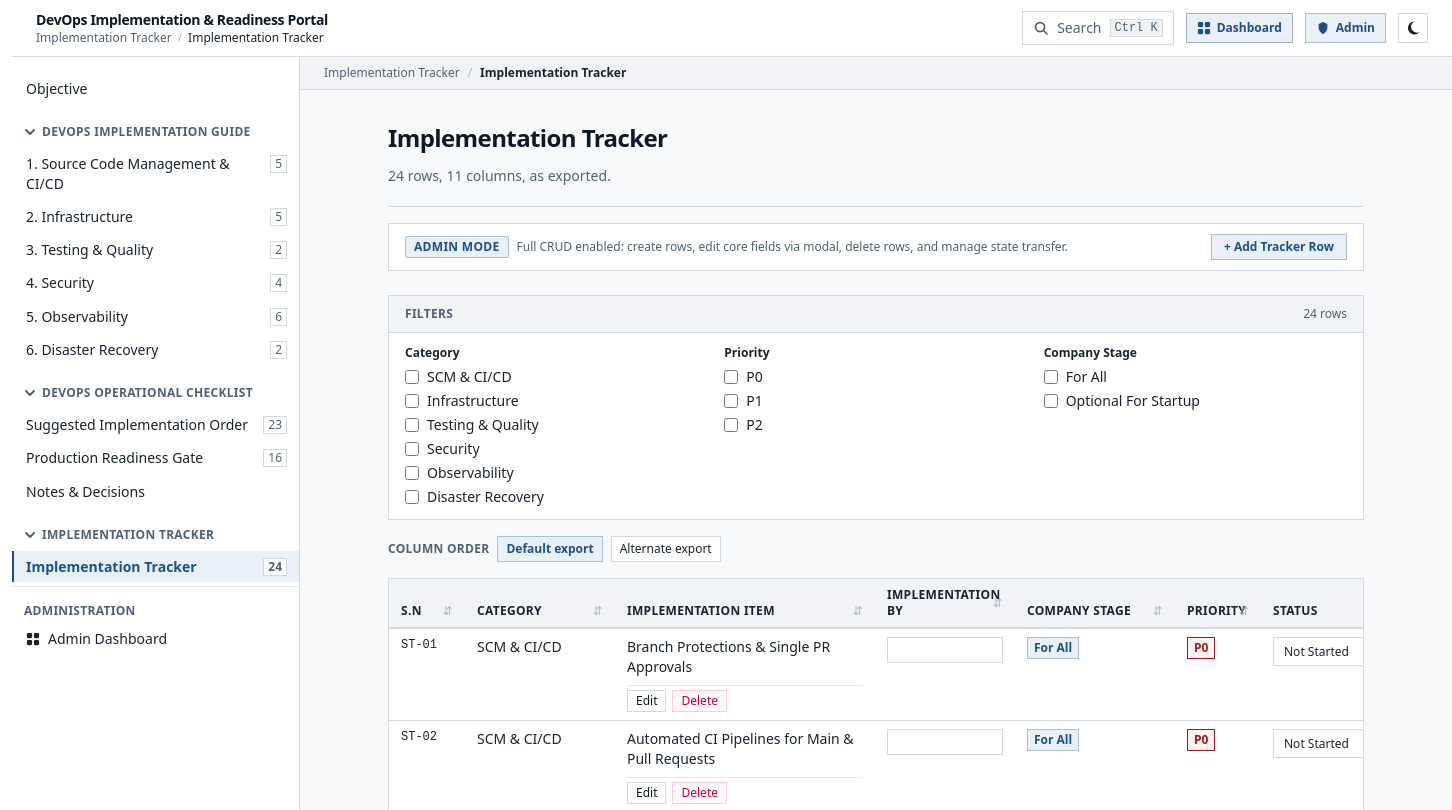
Test: tracker page — editable fields › records a status change
Select "In Progress" in the dropdown named "Status for ST-01, SCM & CI/CD": (1335, 652) top-left (1273, 637), bottom-right (1397, 666)
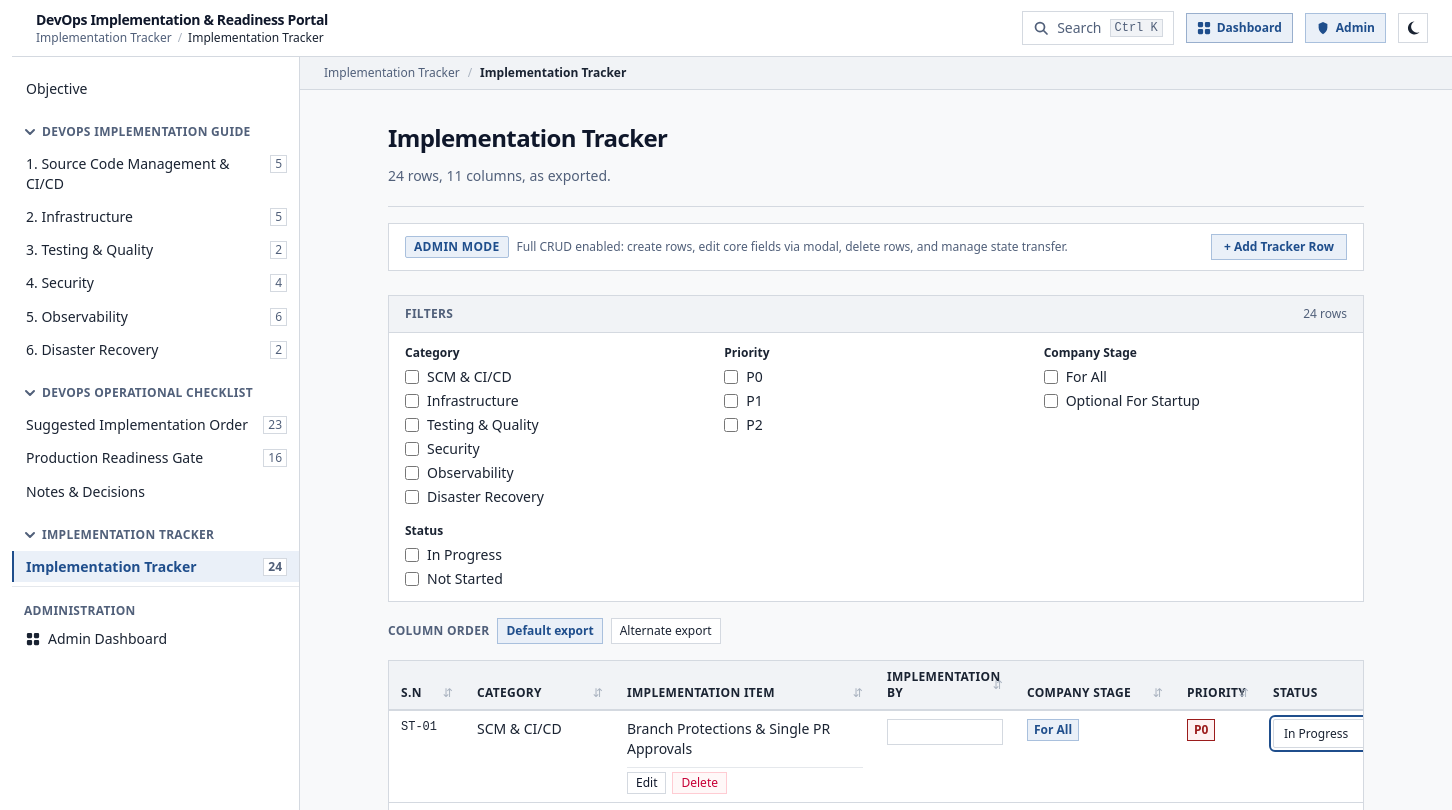
expect the label "In Progress" is shown: met, box top-left (427, 545), bottom-right (502, 565)
